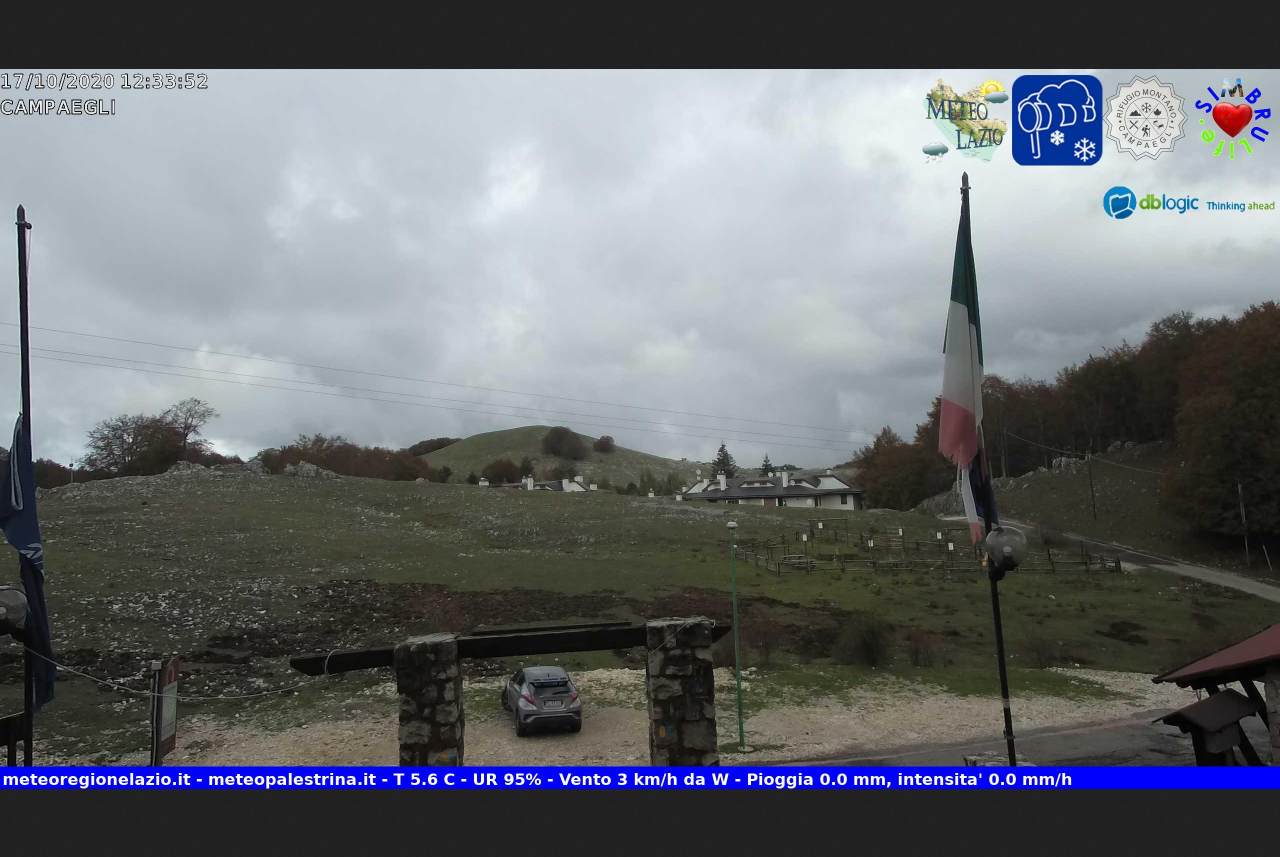no: (921, 157, 1026, 565)
